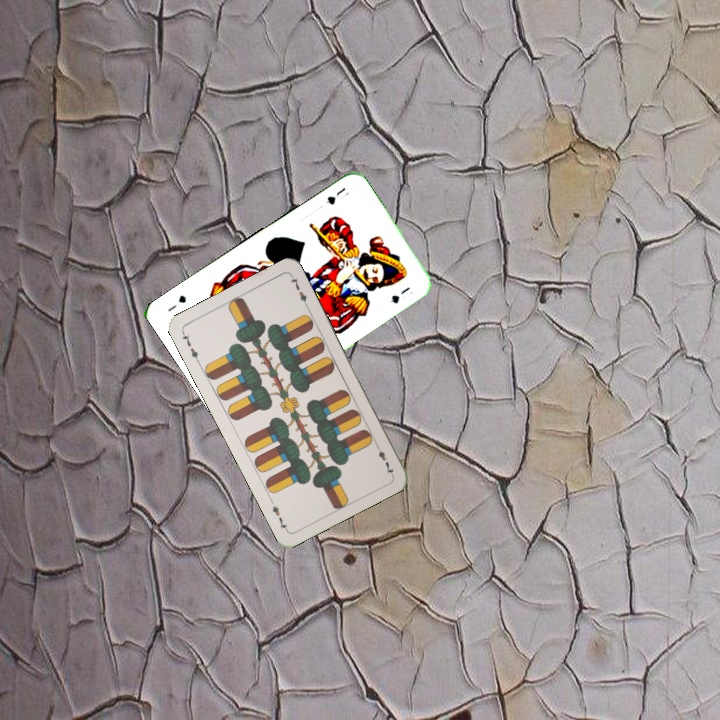E7: (178, 328, 202, 366), (372, 440, 396, 477)
GU: (322, 183, 348, 208)
